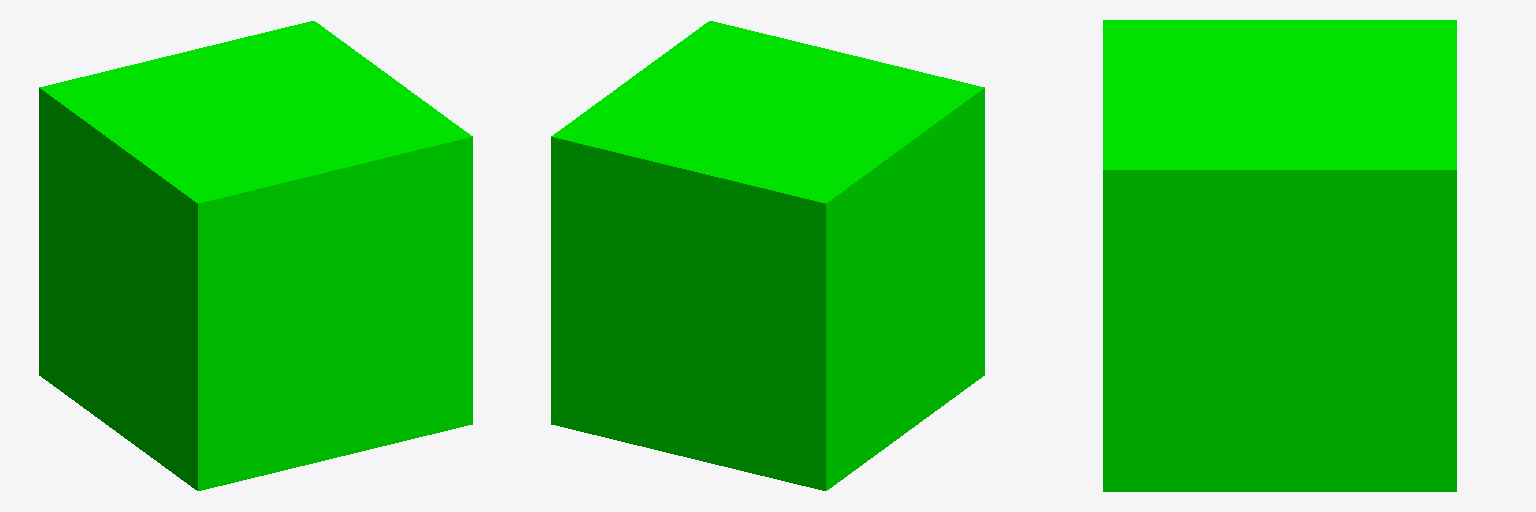
URDF robot description (box_object):
<robot name="box_object">
  <link name="box_link">
    <visual>
      <geometry>
        <box size="0.3 0.3 0.3"/>
      </geometry>
      <material name="green">
        <color rgba="0 1 0 1"/>
      </material>
    </visual>
    <collision>
      <geometry>
        <box size="0.3 0.3 0.3"/>
      </geometry>
    </collision>
    <inertial>
      <mass value="1"/>
      <inertia ixx="0.01" iyy="0.01" izz="0.01" ixy="0" ixz="0" iyz="0"/>
    </inertial>
  </link>
</robot>

--- What the picture shows (computed from the rendered views, not written in the file) ---
3 views of the same robot in one strip: view 1: azimuth 30°, elevation 25°; view 2: azimuth 150°, elevation 25°; view 3: azimuth 270°, elevation 25° (orthographic).
Robot: box_object — 1 links, 0 joints (none); root link box_link; default pose: every joint at zero.
Links seen in each view (by area): view 1: box_link; view 2: box_link; view 3: box_link.
Link boxes in pixels (x1=…): box_link: x1=39, y1=21, x2=472, y2=490; box_link: x1=551, y1=21, x2=984, y2=490; box_link: x1=1103, y1=20, x2=1456, y2=491.
Size in the robot's own frame: 0.3 by 0.3 by 0.3 metres.
Geometry: primitives only (box / cylinder / sphere), no mesh files.